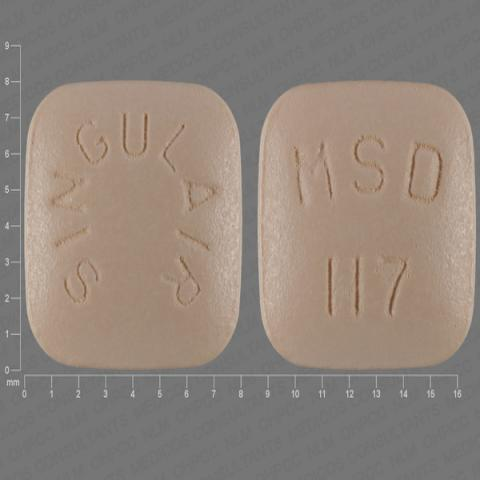Pill: (9, 63, 250, 409), (257, 62, 480, 427)
